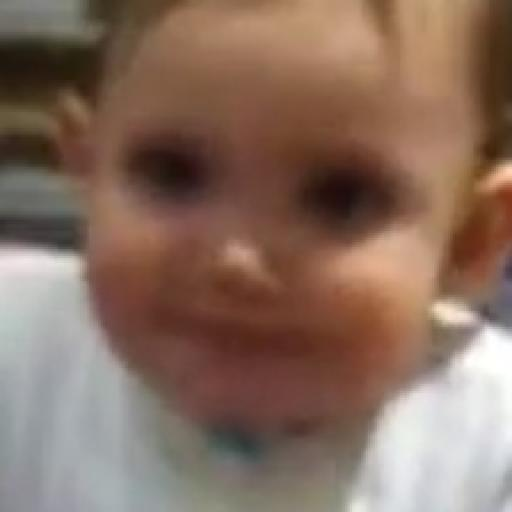Autism: (64, 18, 512, 425)
